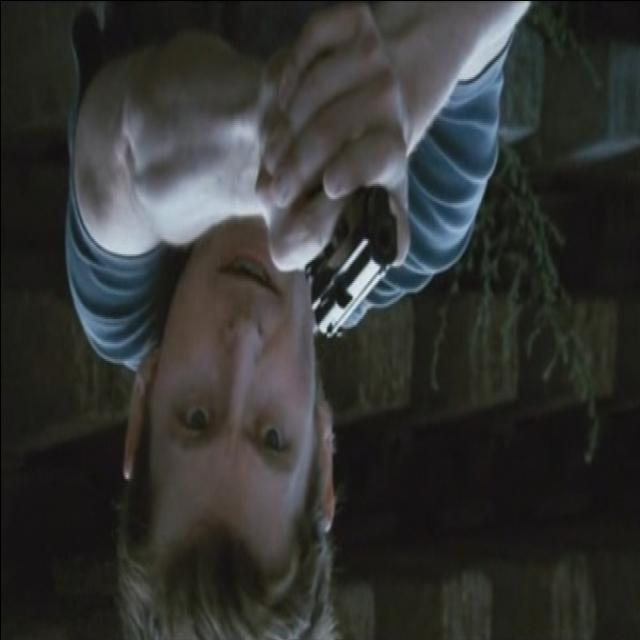weapons: (296, 78, 422, 370)
